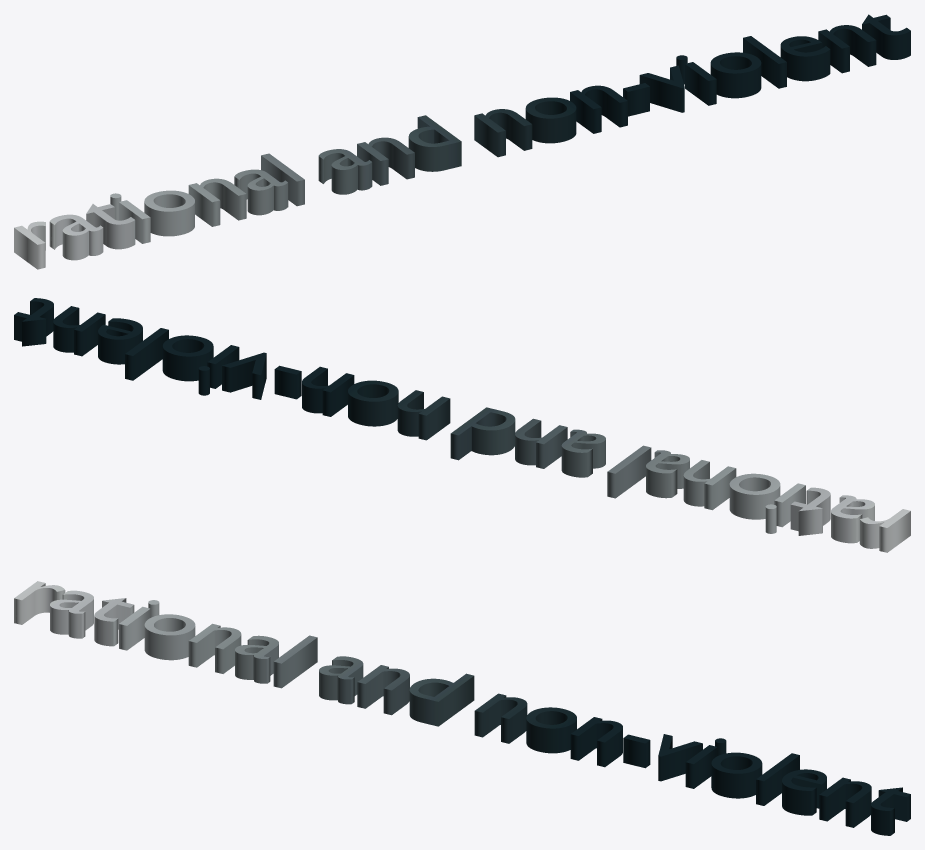
3 views of the same model, one above another, from view 1: azimuth 30°, elevation 25°; view 2: azimuth 150°, elevation 25°; view 3: azimuth 330°, elevation 25° (orthographic).
Visible parts, largest first — view 1: 文字.007; view 2: 文字.007; view 3: 文字.007.
Boxes of the visible parts, x1,y1,x2,y2 form: 文字.007: (14,14,910,269); 文字.007: (14,298,910,552); 文字.007: (14,581,910,835).
Size of the model in its own units: 9.61 by 0.26 by 0.691.
1 material, 1 textured.
